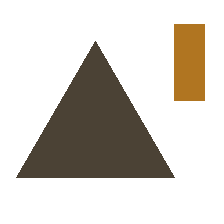rectangle: (174, 24, 204, 100)
triangle: (16, 41, 174, 177)
